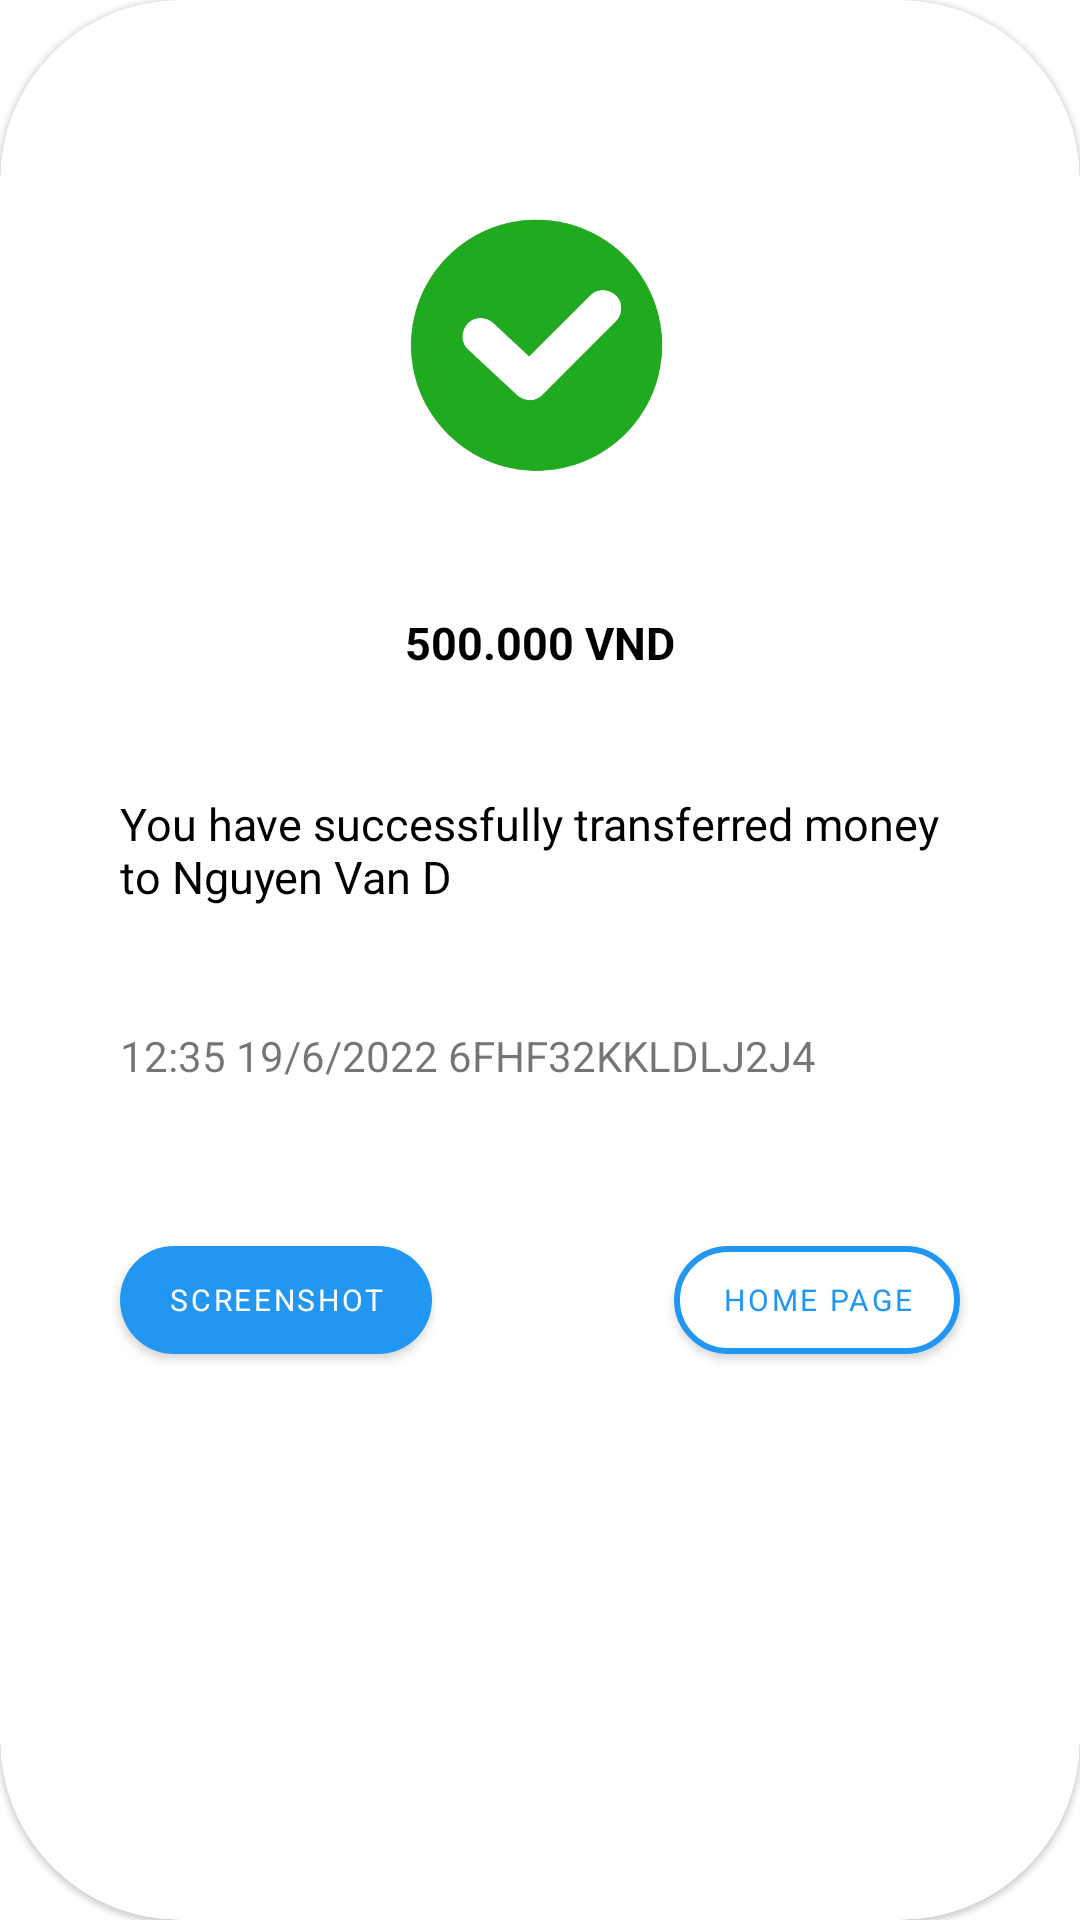

Screen size 1080px×1920px. Icon name, then its center in pixels as (x=x, y=y):
check: (x=537, y=345)
